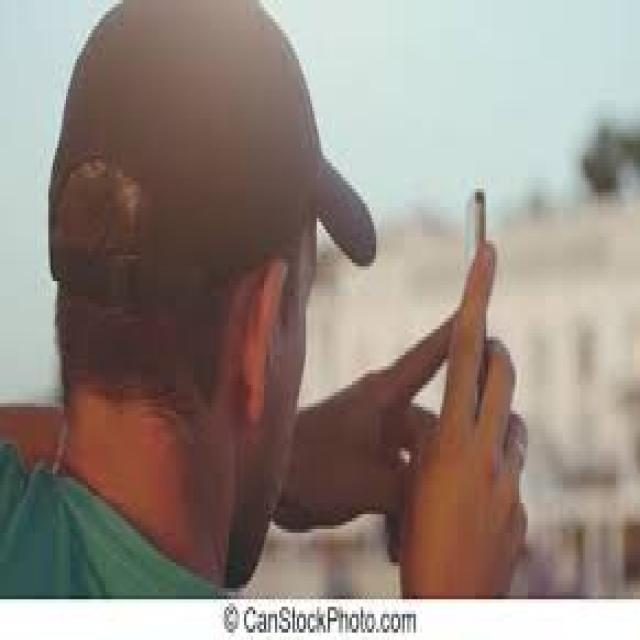3_gorra: (46, 4, 378, 312)
